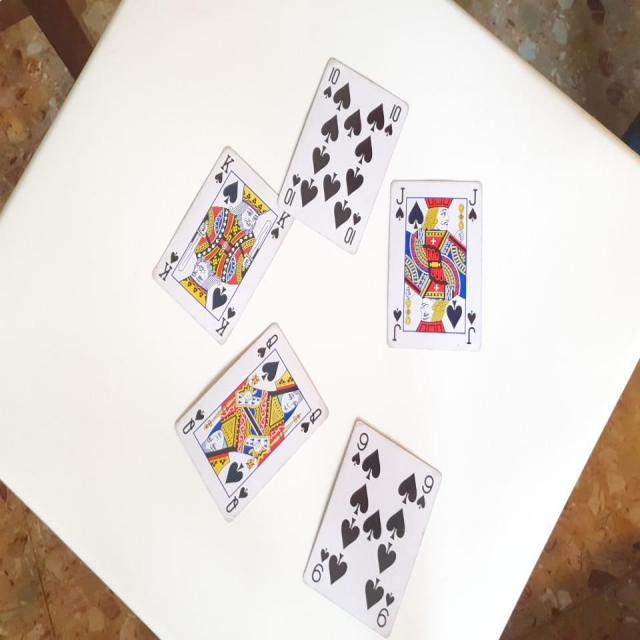10 Spades: (276, 56, 405, 261)
9 Spades: (298, 409, 439, 638)
J Spades: (386, 177, 485, 356)
K Spades: (148, 138, 293, 346)
Q Spades: (169, 324, 332, 526)
